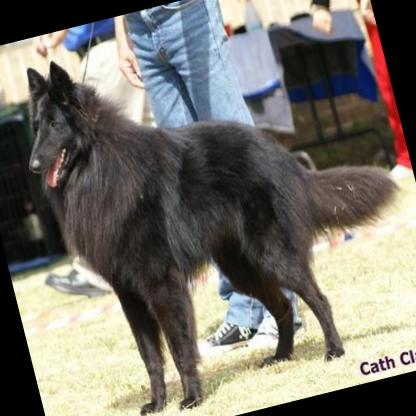groenendael: (3, 0, 416, 416)
